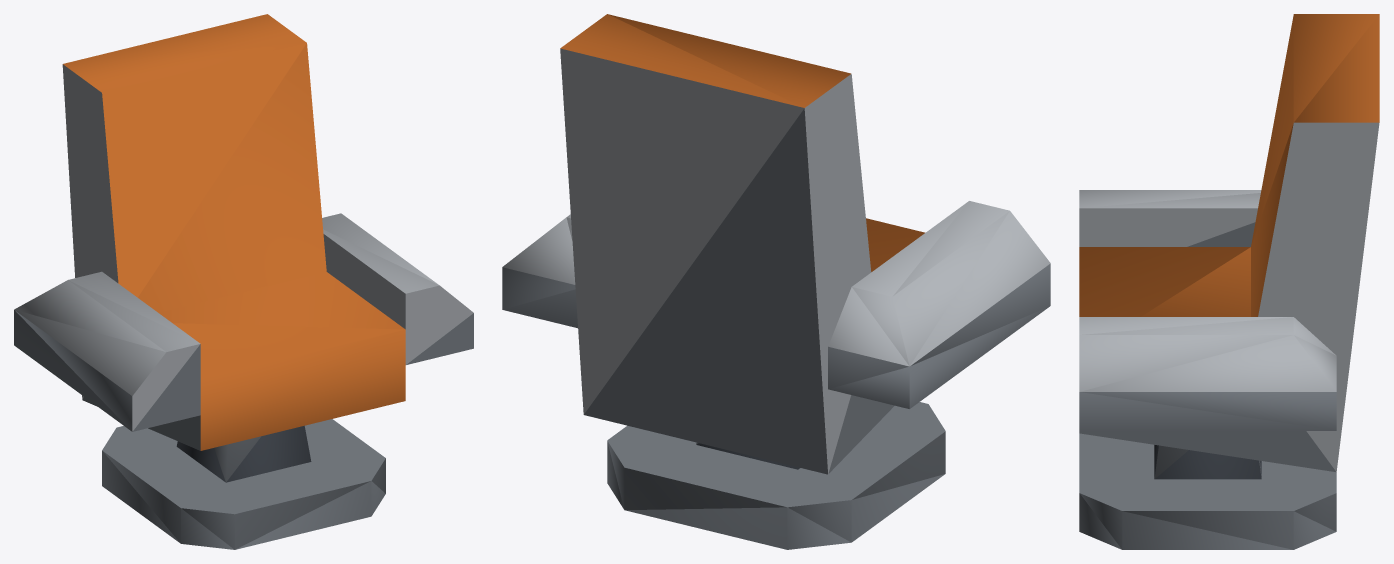
Rendered from Kit_chair-armrest.fbx.
The picture shows the model from 3 angles, left to right: view 1: azimuth 30°, elevation 25°; view 2: azimuth 150°, elevation 25°; view 3: azimuth 270°, elevation 25°; orthographic projection. The views are drawn at different scales.
Visible parts, largest first — view 1: Kit_chair-armrest; view 2: Kit_chair-armrest; view 3: Kit_chair-armrest.
Boxes of the visible parts, bbox=[...] form: Kit_chair-armrest: bbox=[14, 14, 473, 549]; Kit_chair-armrest: bbox=[502, 14, 1050, 549]; Kit_chair-armrest: bbox=[1079, 14, 1379, 549].
Size of the model in its own units: 0.5 by 0.55 by 0.35.
